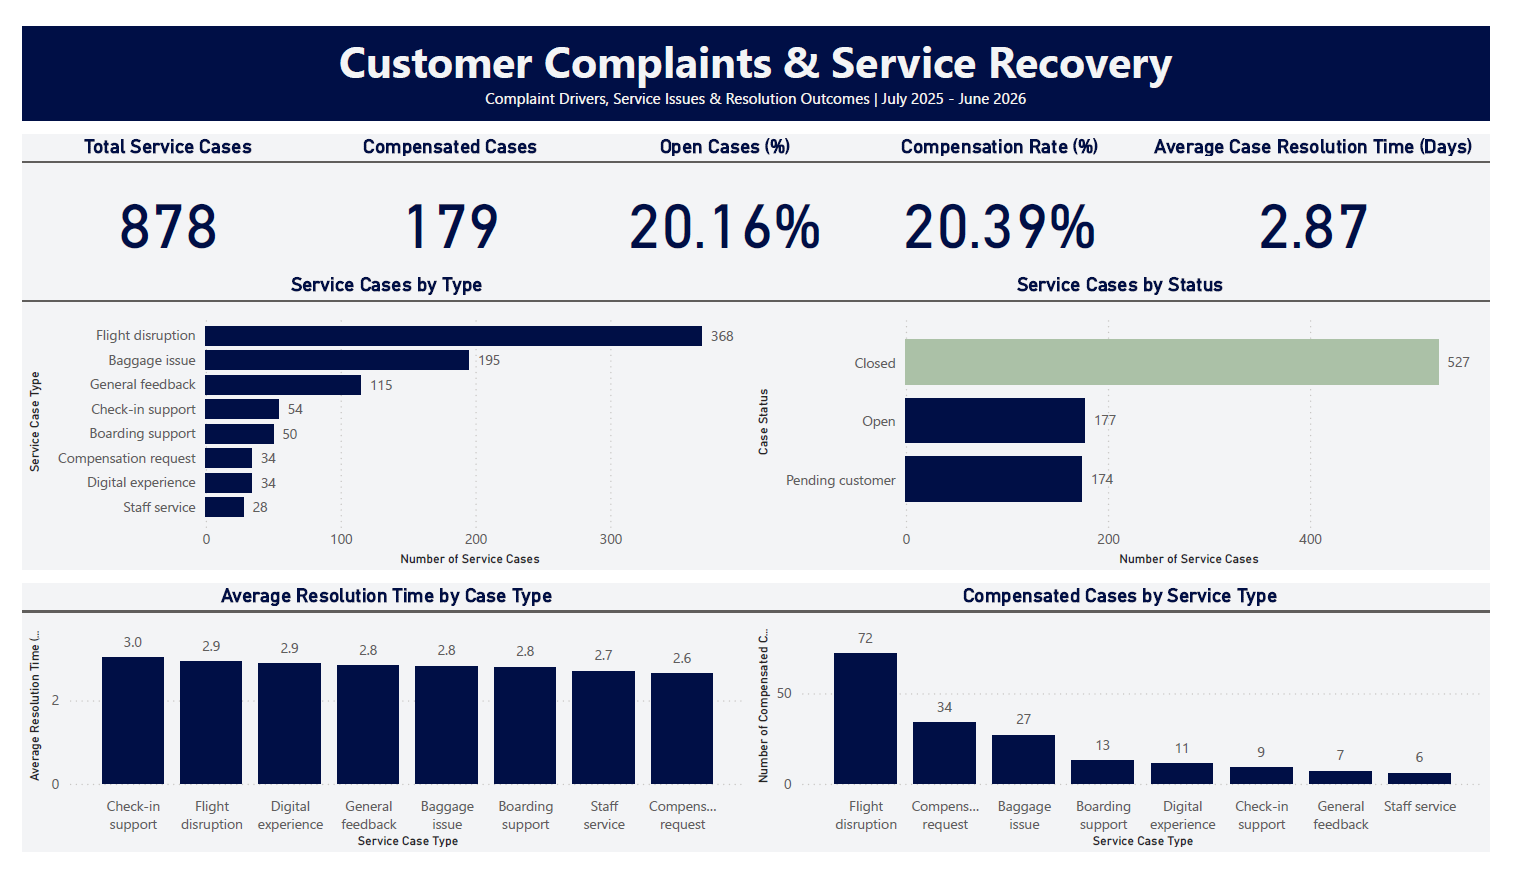

This screenshot's page, from the dashboard's own definition file:
{"tool":"powerbi","page":{"name":"Customer Complaints","canvas":[1280,720],"ordinal":2},"visuals":[{"type":"textbox","box":[0,0,1280,82.4],"z":0},{"type":"card","title":"Total Service Cases ","fields":{"Values":["dim_date.Total Service Cases"]},"box":[0,94.4,253.8,120.4],"z":1000},{"type":"card","title":"Average Case Resolution Time (Days)","fields":{"Values":["fact_service_case.Average Case Resolution Time (Days)"]},"box":[973,94.4,307,120.4],"z":2000},{"type":"card","title":"Compensated Cases","fields":{"Values":["fact_service_case.Compensated Cases"]},"box":[253.7,94.4,239.7,120.4],"z":3000},{"type":"card","title":"Compensation Rate (%)","fields":{"Values":["fact_service_case.Compensation Rate (%)"]},"box":[733.2,94.4,239.7,120.4],"z":4000},{"type":"clusteredBarChart","title":"Service Cases by Type","fields":{"Category":["fact_service_case.case_type"],"Y":["dim_date.Total Service Cases"]},"box":[0,214.8,635.7,259.3],"z":5000},{"type":"clusteredColumnChart","title":"Average Resolution Time by Case Type","fields":{"Category":["fact_service_case.case_type"],"Y":["fact_service_case.Average Case Resolution Time (Days)"]},"box":[0,486,635.7,234.3],"z":6000},{"type":"card","title":"Open Cases (%)","fields":{"Values":["fact_service_case.Open Cases (%)"]},"box":[493.5,94.4,239.7,120.4],"z":7000},{"type":"clusteredColumnChart","title":"Compensated Cases by Service Type","fields":{"Y":["fact_service_case.Compensated Cases"],"Category":["fact_service_case.case_type"]},"box":[635.7,486,644.3,234.3],"z":8000},{"type":"clusteredBarChart","title":"Service Cases by Status","fields":{"Category":["fact_service_case.case_status"],"Y":["dim_date.Total Service Cases"]},"box":[635.7,214.8,644.3,259.3],"z":9000}]}

Visuals, with their boxes in screenshot pixels (x1, y1, x2, y2), scaled from the page's 1280x720 canvas onto the 1513x876 screenshot:
textbox: bbox=[0, 0, 1512, 100]
"Total Service Cases " card: bbox=[0, 115, 300, 261]
"Average Case Resolution Time (Days)" card: bbox=[1150, 115, 1512, 261]
"Compensated Cases" card: bbox=[300, 115, 583, 261]
"Compensation Rate (%)" card: bbox=[867, 115, 1150, 261]
"Service Cases by Type" clusteredBarChart: bbox=[0, 261, 751, 577]
"Average Resolution Time by Case Type" clusteredColumnChart: bbox=[0, 591, 751, 875]
"Open Cases (%)" card: bbox=[583, 115, 867, 261]
"Compensated Cases by Service Type" clusteredColumnChart: bbox=[751, 591, 1512, 875]
"Service Cases by Status" clusteredBarChart: bbox=[751, 261, 1512, 577]
